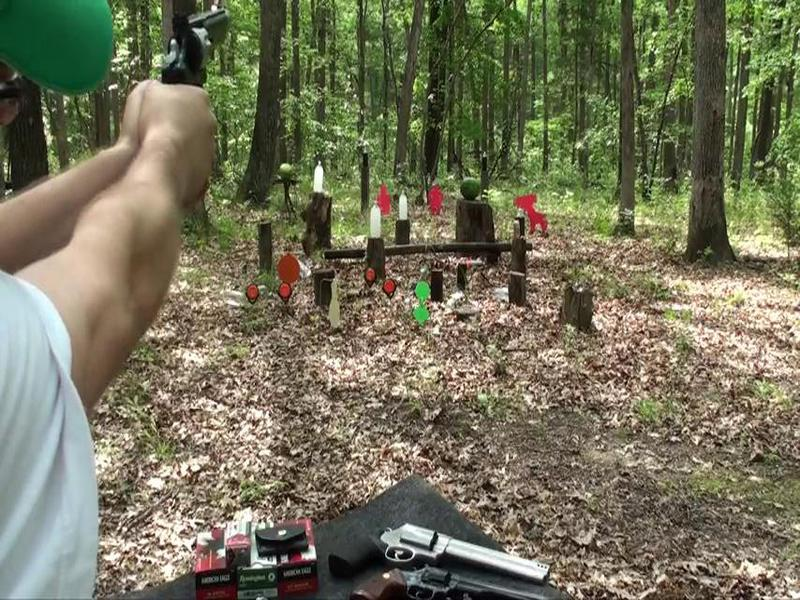Revolver: (133, 1, 254, 137)
